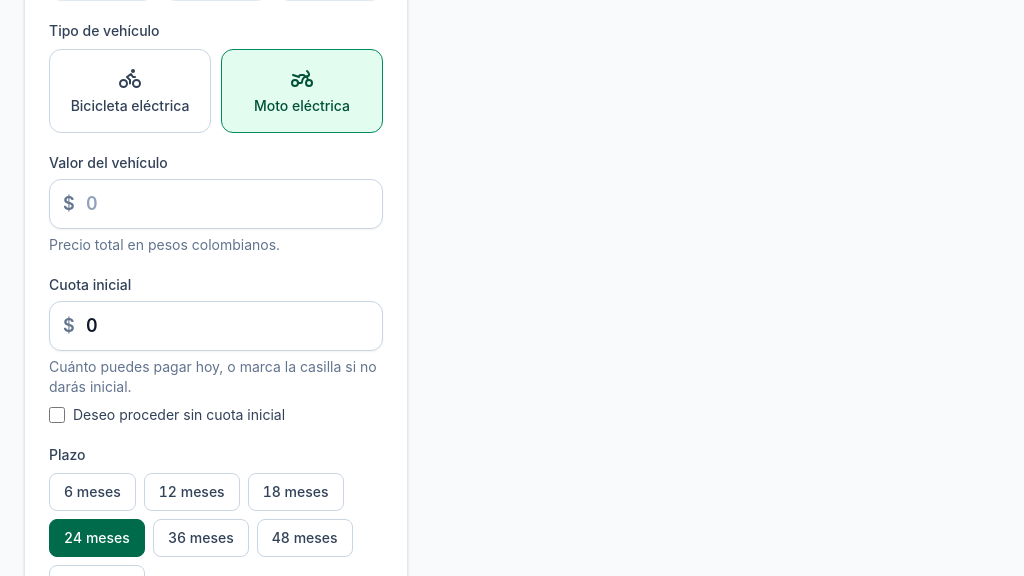
Scenario: CreditSimulatorPage › asocia al campo el detalle de un error de validacion (422)
(page scrolled)
Type "8000000" into the field labelled "Valor del vehículo". click: (216, 204)
box: x1=49 y1=179 x2=383 y2=229
(page scrolled)
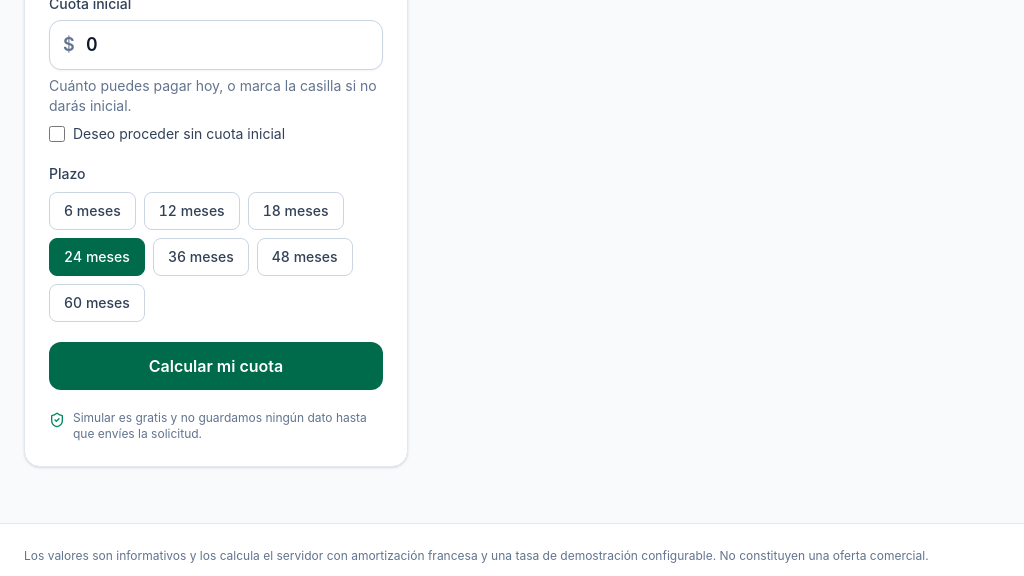
Click the button "Calcular mi cuota". click: (216, 366)
box: x1=49 y1=342 x2=383 y2=390
(page scrolled)
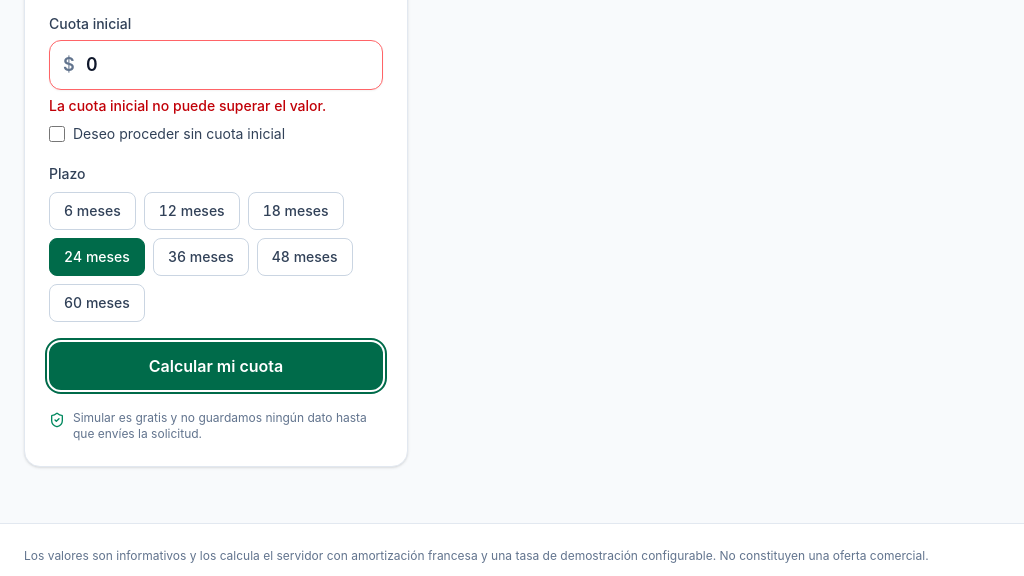
Expected: the text "La cuota inicial no puede superar el valor." is shown, x1=49 y1=97 x2=326 y2=114
